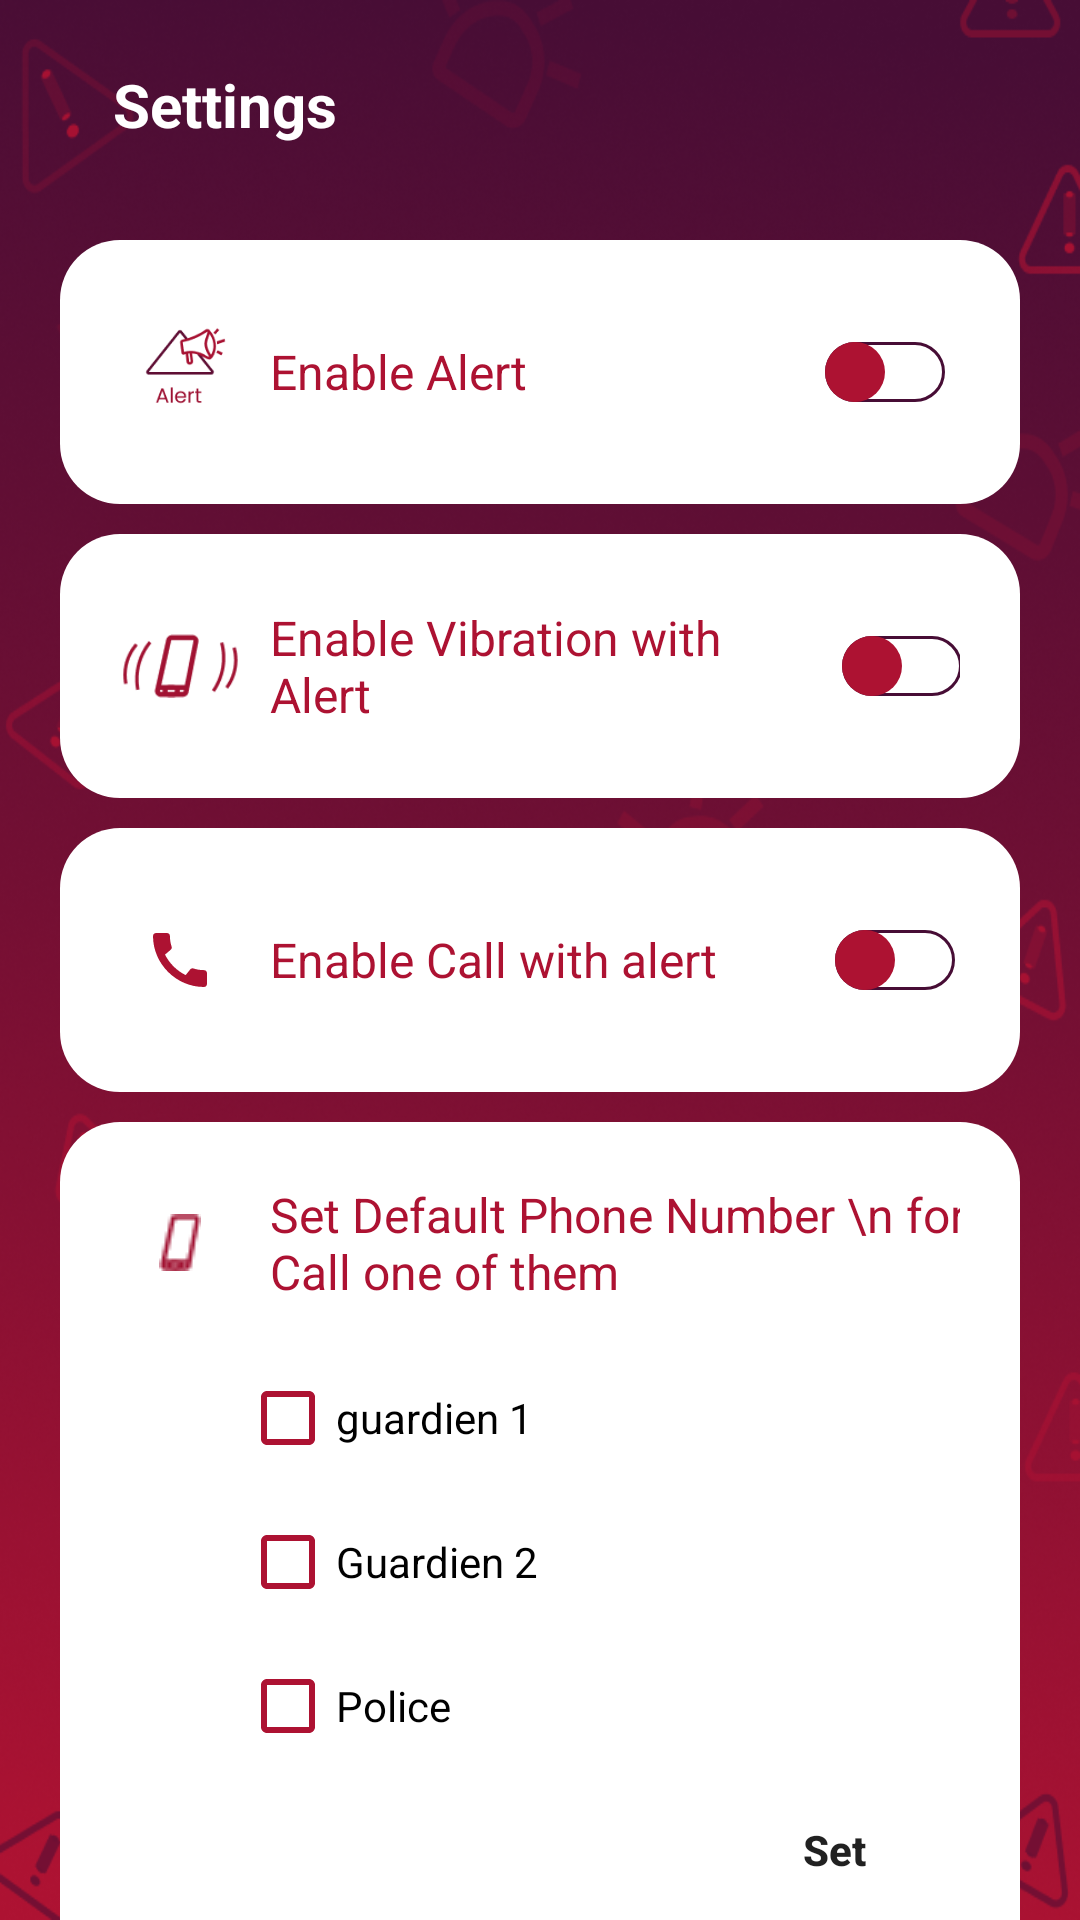

Icon bounding boxes for this 1080w x 1920h phone screenshot, format (x1, y1, x2, y2):
shake: (123, 634, 238, 698)
